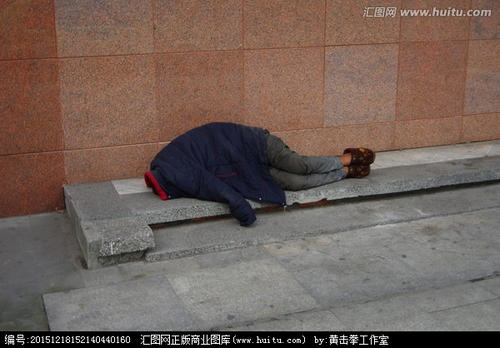falling: (137, 114, 377, 228)
